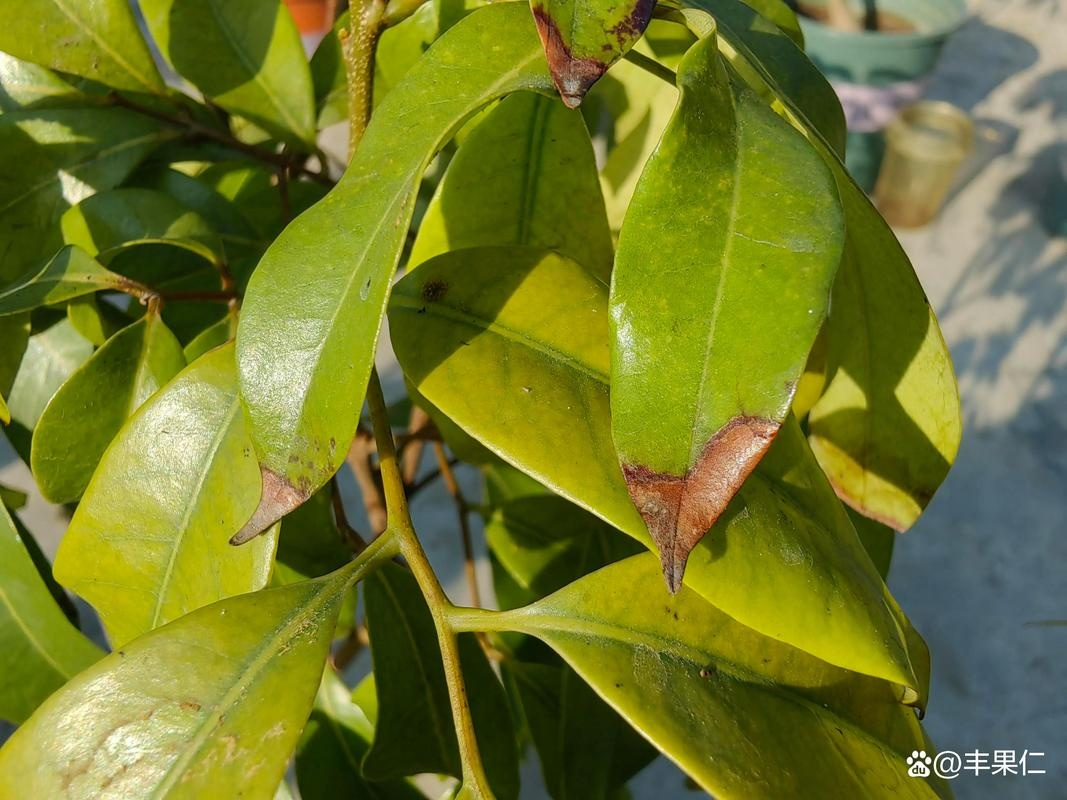Anthracnose: (602, 401, 843, 616), (232, 413, 346, 542), (513, 3, 654, 104)
